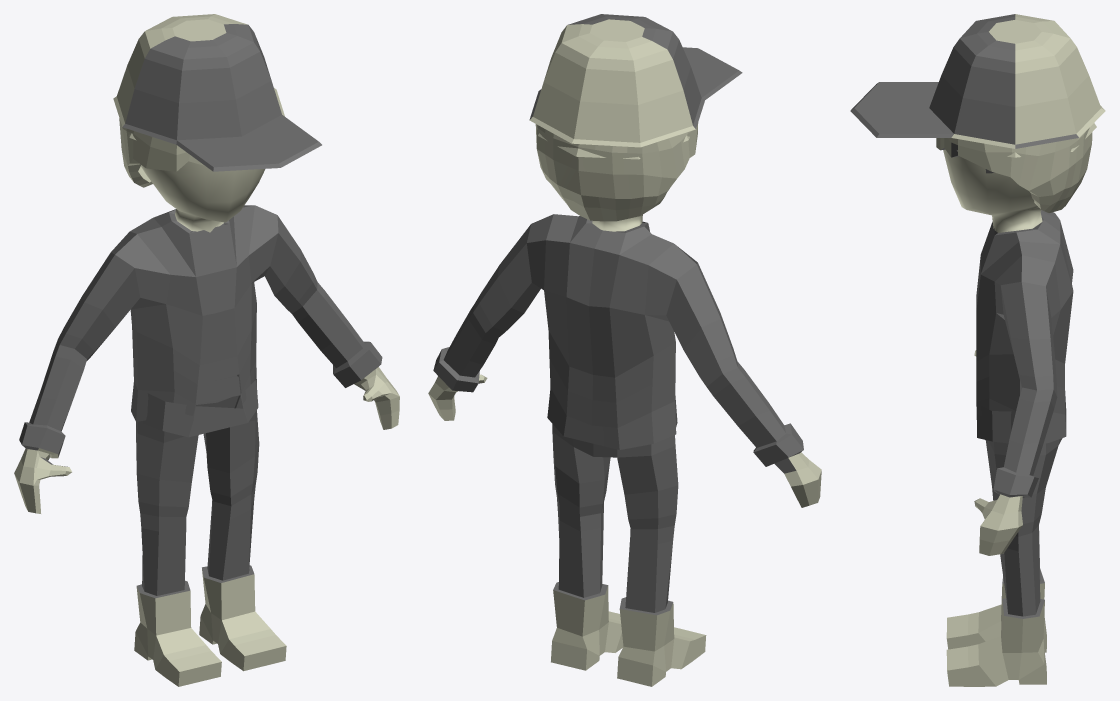
Rendered from farmer b1.fbx.
3 renders of one model, left to right at view 1: azimuth 30°, elevation 25°; view 2: azimuth 150°, elevation 25°; view 3: azimuth 270°, elevation 25°, orthographic. The views are drawn at different scales.
Parts seen in each view (by area): view 1: Character; view 2: Character; view 3: Character.
Part boxes in pixels (left/top/right/bottom): Character: left=14, top=14, right=399, bottom=686; Character: left=428, top=14, right=821, bottom=686; Character: left=850, top=14, right=1105, bottom=686.
Bounding box in the file's own units: 37.47 × 58.86 × 21.7.
